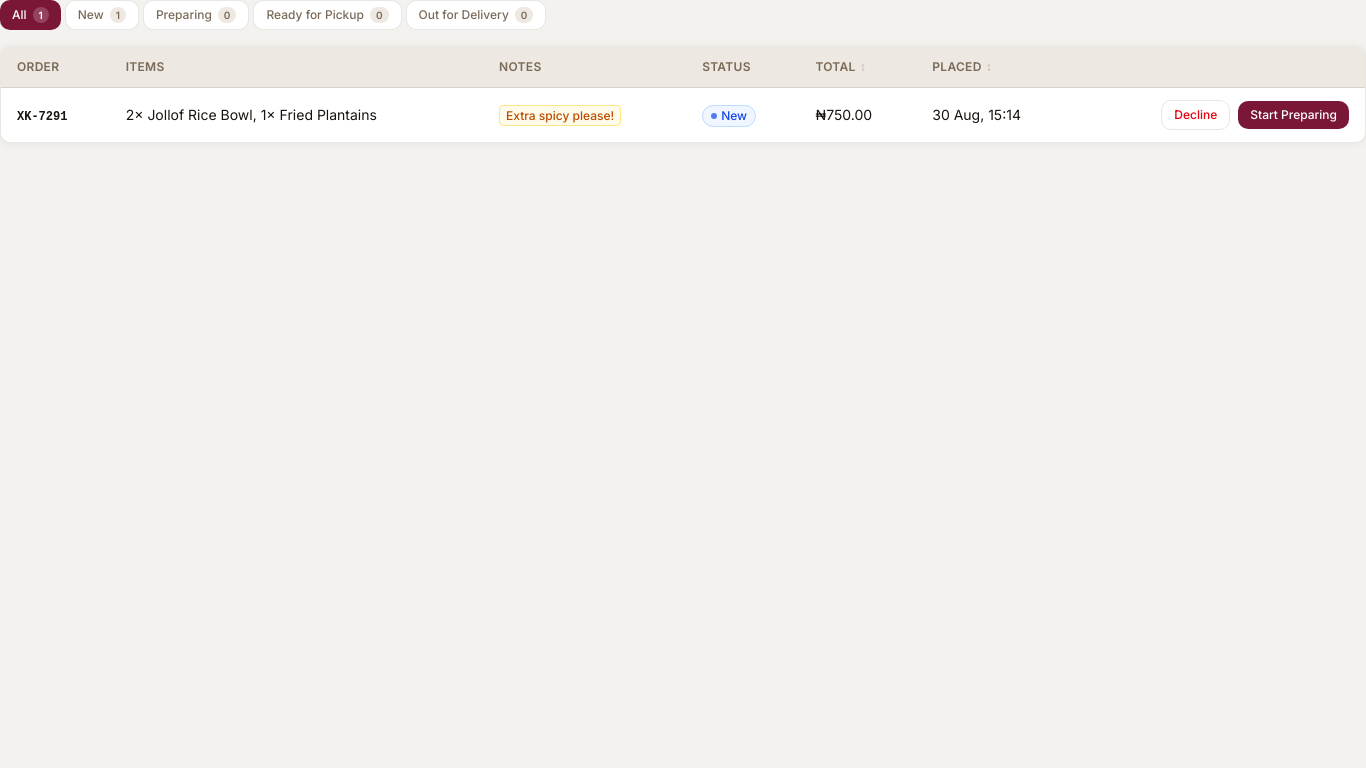
Task 61: declining an order › requires a reason, POSTs it, and only drops the order once the refresh confirms it
Click the button "Decline" at x=1196, y=115, box [1161, 100, 1230, 130]
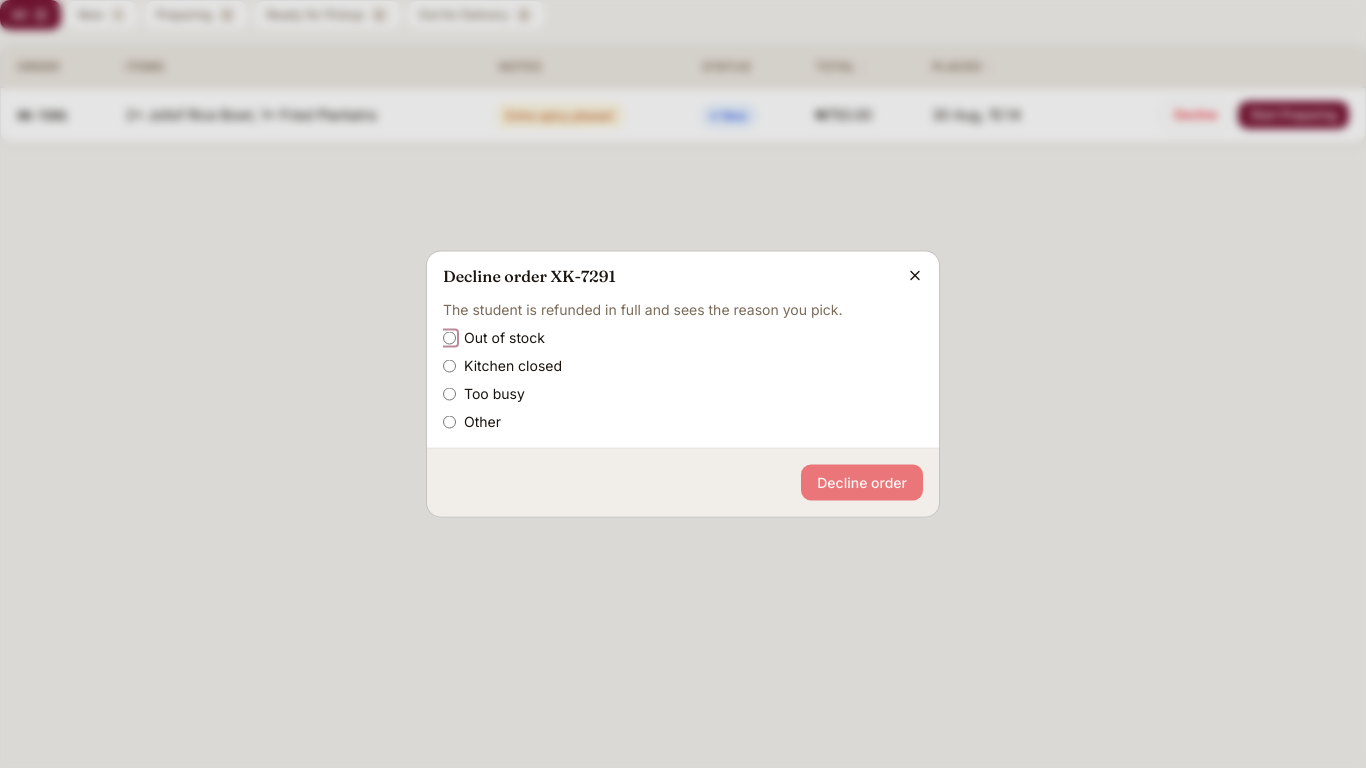
expect the button "Decline order" is disabled: met, box [801, 464, 923, 500]
Click the radio button labelled "Out of stock" at x=450, y=338, box [443, 331, 456, 344]
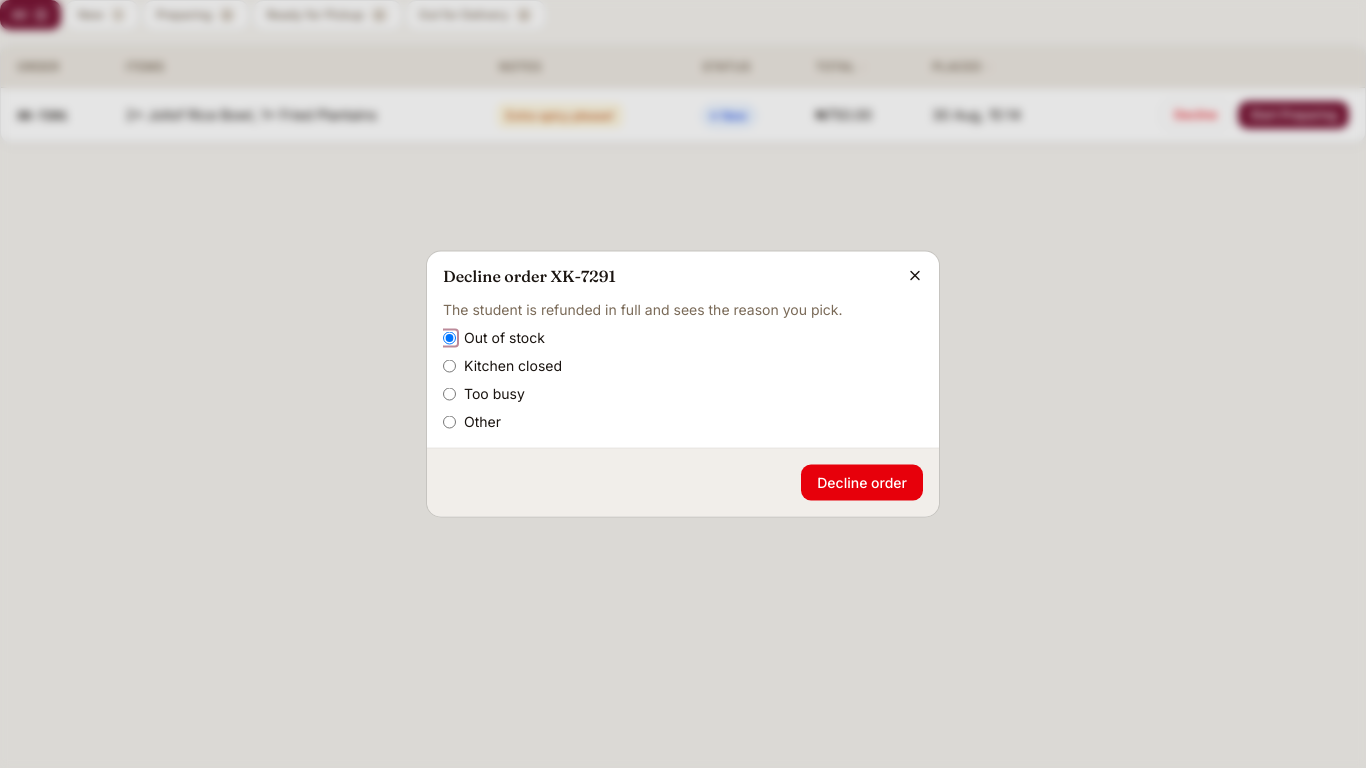
expect the button "Decline order" is enabled: met
Click the button "Decline order" at x=862, y=482, box [801, 464, 923, 500]
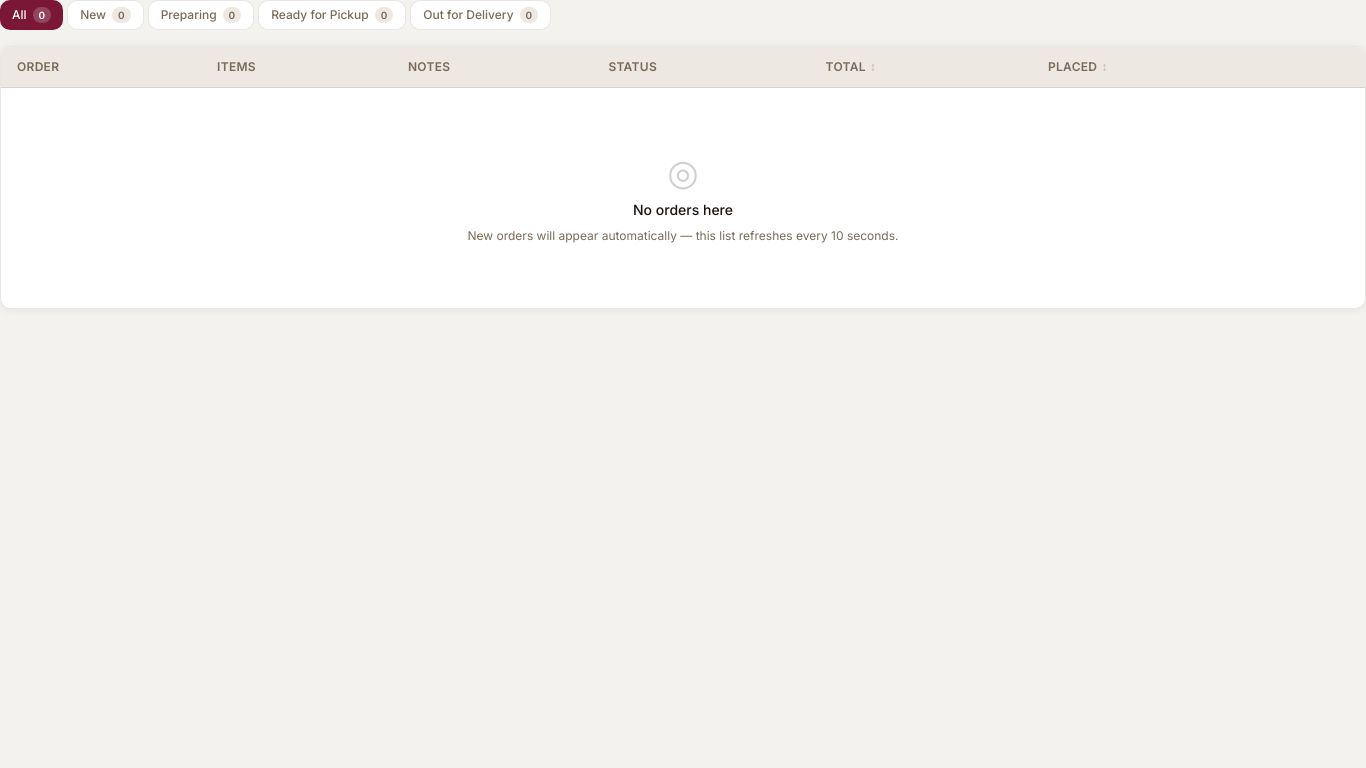
expect the text "XK-7291" is gone: met
